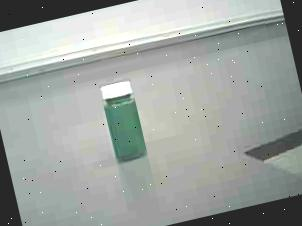Bottle C: (86, 67, 165, 174)
